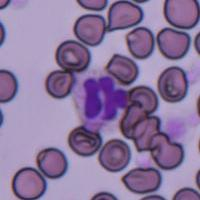N: (74, 70, 128, 130)
